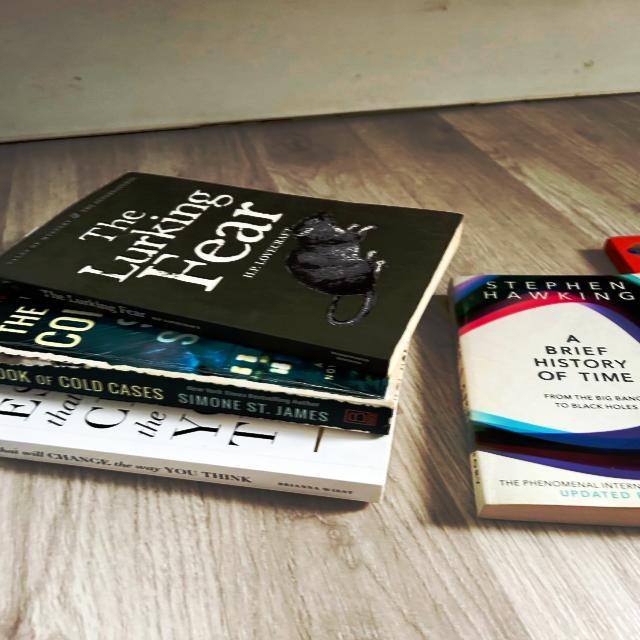Book: (0, 218, 463, 379), (0, 296, 412, 435), (451, 273, 639, 526), (0, 385, 392, 501), (604, 236, 639, 274)
